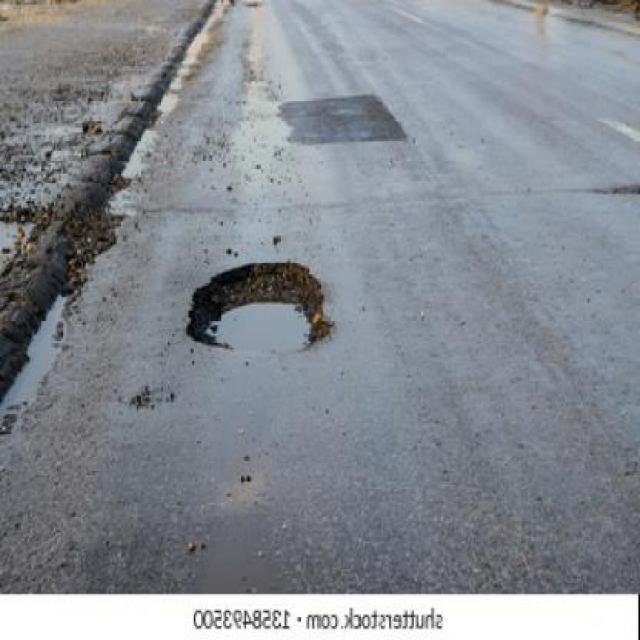Pothole: (184, 257, 337, 356)
